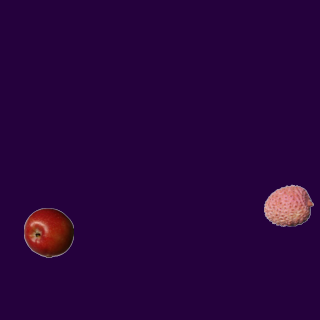Apple Braeburn: (23, 207, 73, 257)
Lychee: (263, 180, 313, 230)
